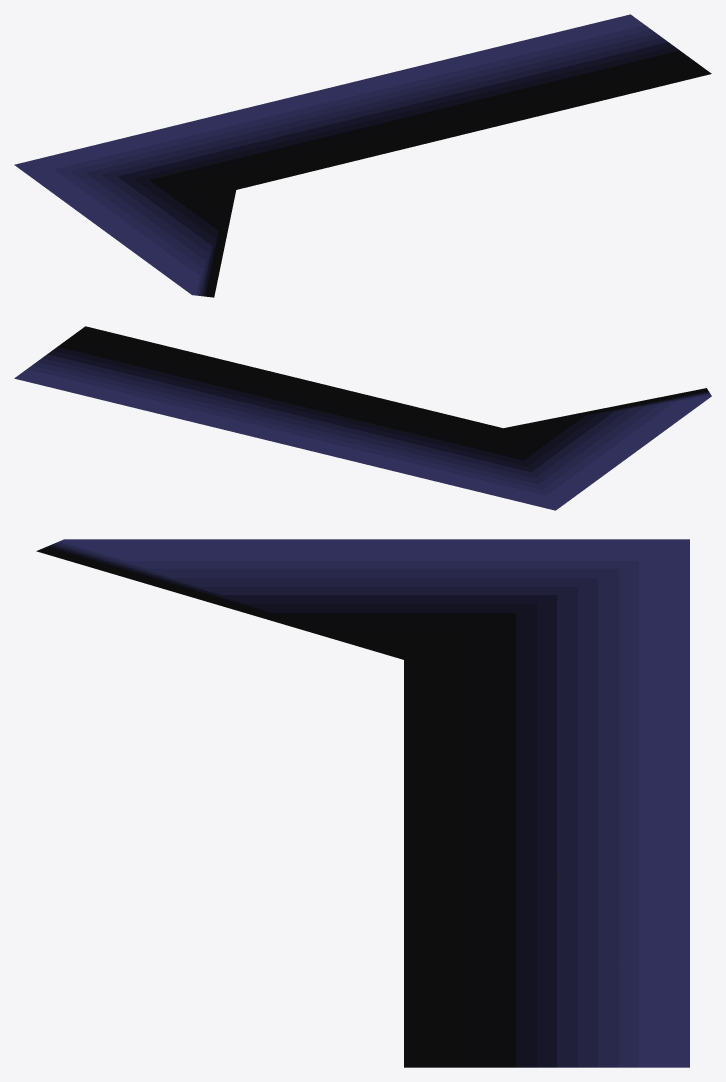
3 views of the same model, one above another, from view 1: azimuth 30°, elevation 25°; view 2: azimuth 150°, elevation 25°; view 3: azimuth 270°, elevation 25° (orthographic). The views are drawn at different scales.
Parts seen in each view (by area): view 1: Joint_0_Object_0; view 2: Joint_0_Object_0; view 3: Joint_0_Object_0.
Boxes of the visible parts, box(x1,y1,x2,y2) form: Joint_0_Object_0: box(14, 14, 711, 297); Joint_0_Object_0: box(14, 326, 711, 510); Joint_0_Object_0: box(36, 539, 689, 1067).
Bounding box in the file's own units: 1000 × 0 × 523.
Materials: 1 (1 with a texture image).
